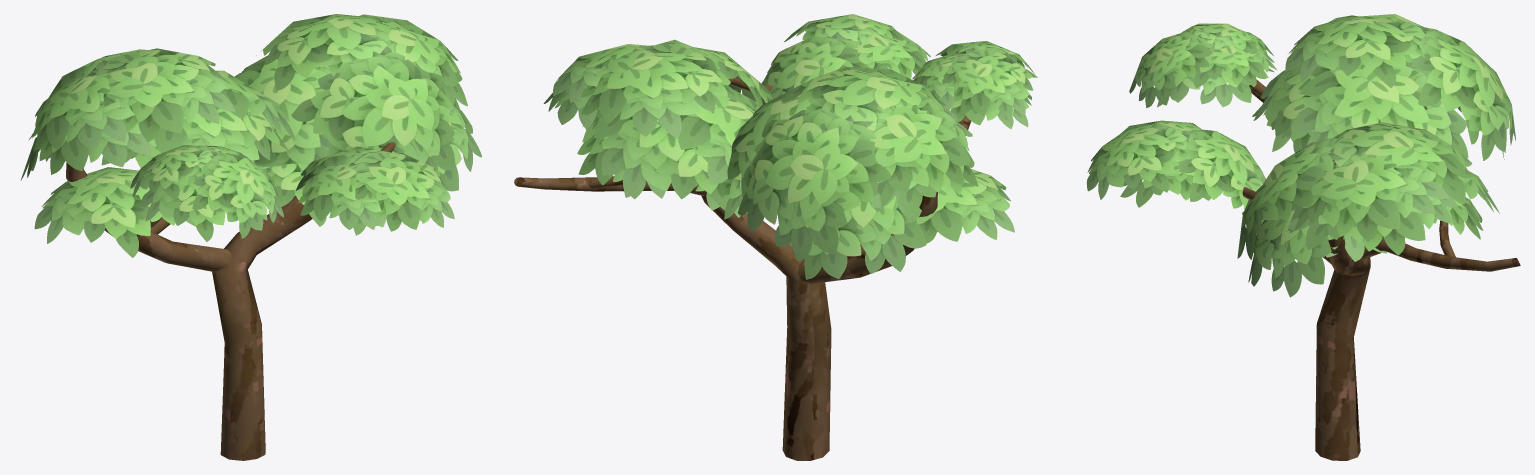
The model's file is tree_4.glb.
3 views of the same model, side by side, from view 1: azimuth 30°, elevation 25°; view 2: azimuth 150°, elevation 25°; view 3: azimuth 270°, elevation 25° (orthographic). The views are drawn at different scales.
Parts seen in each view (by area): view 1: Tree_4; view 2: Tree_4; view 3: Tree_4.
Part boxes in pixels (bbox=[...]): Tree_4: bbox=[20, 14, 481, 460]; Tree_4: bbox=[514, 14, 1037, 460]; Tree_4: bbox=[1086, 14, 1520, 460].
Bounding box in the file's own units: 6.27 × 5.33 × 5.46.
2 materials, 2 textured.
